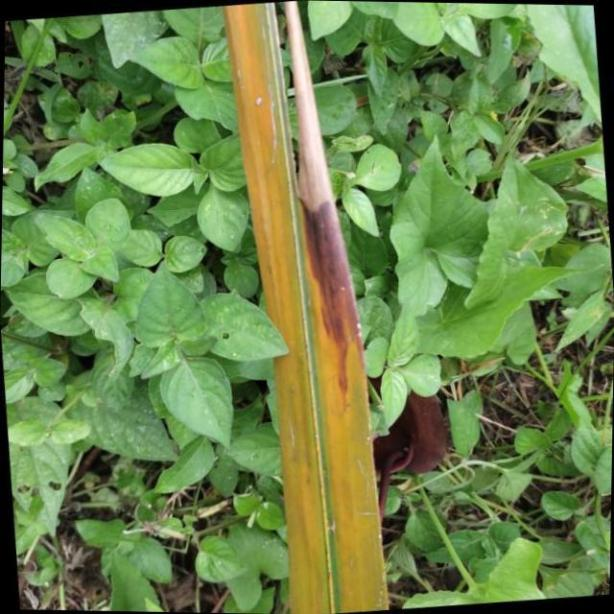Megnesium: (220, 0, 391, 614)
